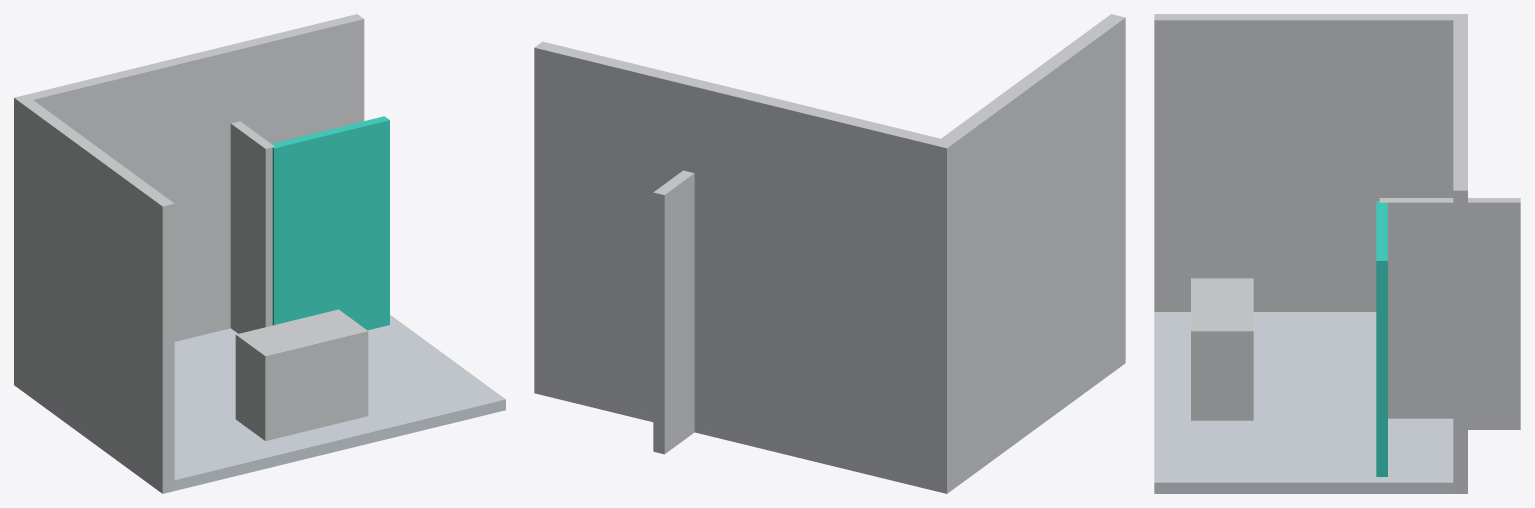
The picture shows the model from 3 angles, left to right: view 1: azimuth 30°, elevation 25°; view 2: azimuth 150°, elevation 25°; view 3: azimuth 270°, elevation 25°; orthographic projection. The views are drawn at different scales.
Visible parts, largest first — view 1: Exhibition Booth Concept; view 2: Exhibition Booth Concept; view 3: Exhibition Booth Concept.
Boxes of the visible parts, x1=… form: Exhibition Booth Concept: x1=14, y1=14, x2=505, y2=493; Exhibition Booth Concept: x1=534, y1=14, x2=1125, y2=493; Exhibition Booth Concept: x1=1154, y1=14, x2=1520, y2=493.
Size of the model in its own units: 4 by 3.2 by 3.51.
